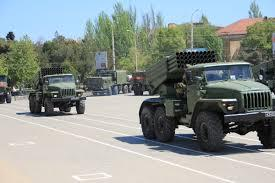MIL_SAM_TEL: (138, 48, 275, 152), (27, 64, 89, 116)
